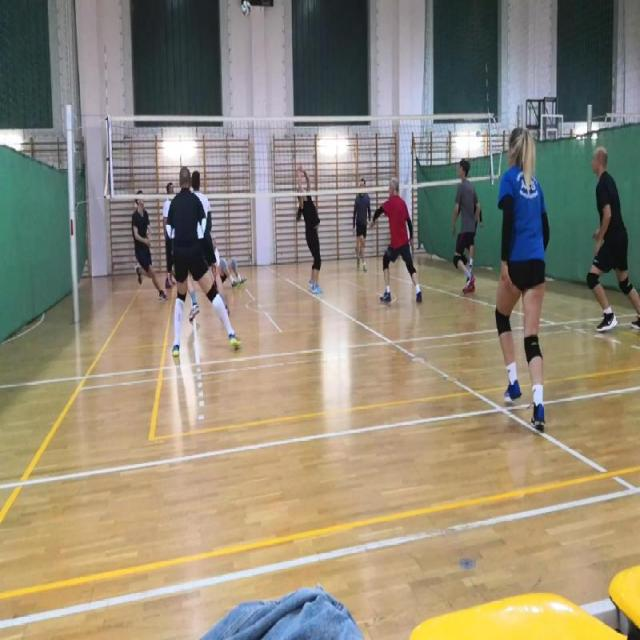volleyball: (241, 1, 251, 16)
